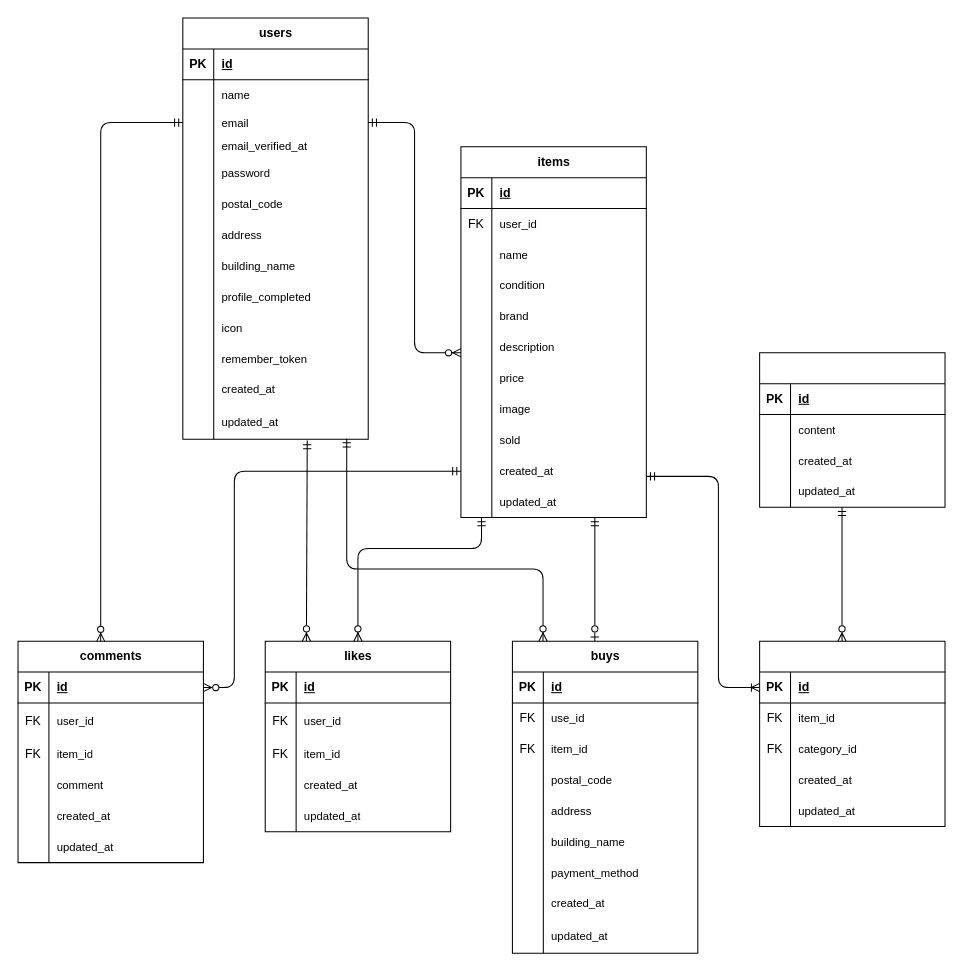
The diagram is 963 pixels wide and 971 high, and some of its shapes have lost their labels. Here are the shapes that lost their labels. From the top down, the box of each, then its label:
(759, 352, 945, 507): categories
(759, 640, 945, 827): category_item
